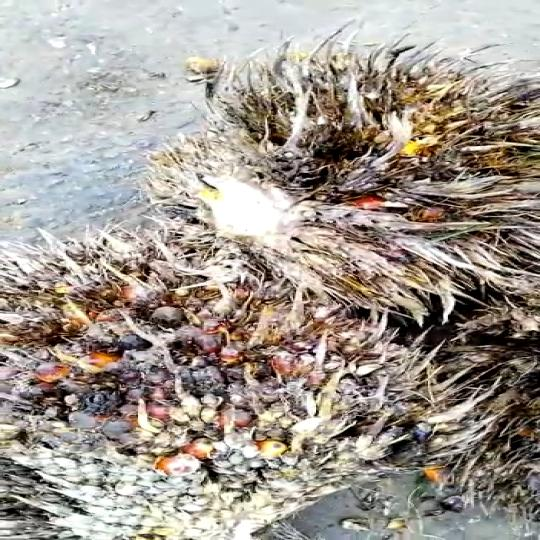terlalu masak: (0, 220, 449, 540), (142, 50, 540, 305)
